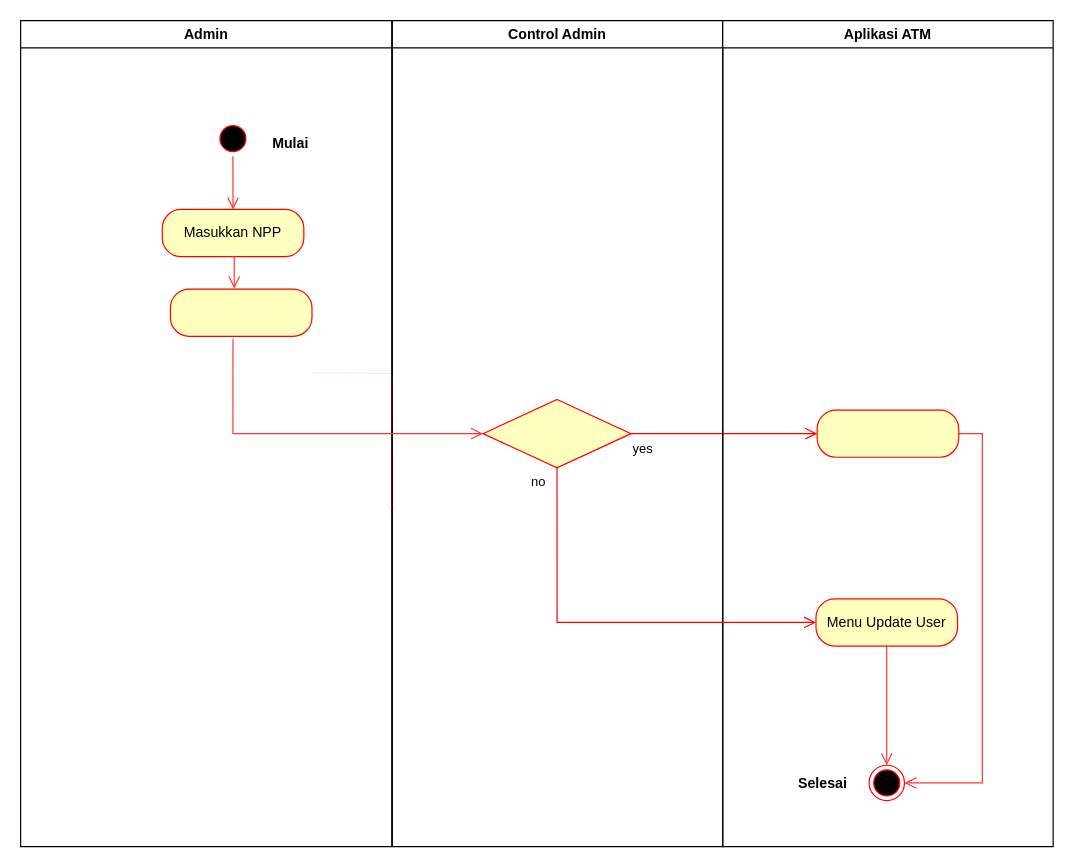
Some shapes in this 1074 by 867 pixel diagram are drawn without their labels. Each missing label, with the centre of its shape:
"Simpan Data" belongs at point 887,433.
"Ubah Password" belongs at point 240,312.
"update password" belongs at point 556,433.
